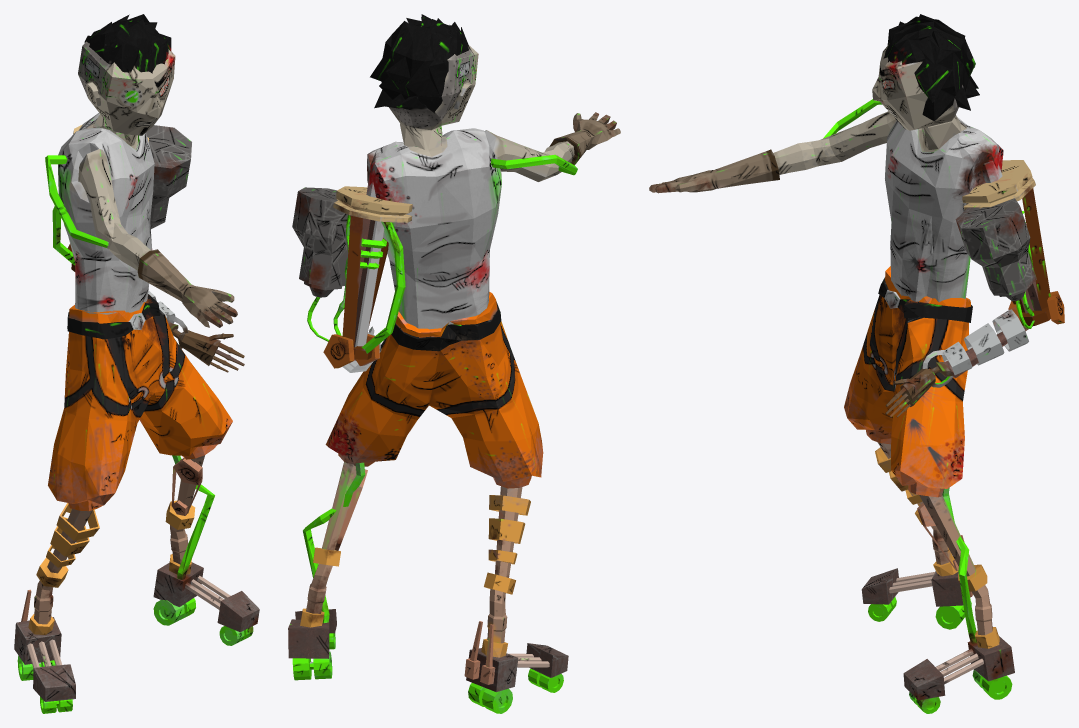
Rendered from CyborgFINALAnimation_000014.obj.
The picture shows the model from 3 angles, left to right: view 1: azimuth 30°, elevation 25°; view 2: azimuth 150°, elevation 25°; view 3: azimuth 270°, elevation 25°; orthographic projection. The views are drawn at different scales.
Visible parts, largest first — view 1: CyborgMesh_Cube.002; view 2: CyborgMesh_Cube.002; view 3: CyborgMesh_Cube.002.
Part boxes in pixels (box(x1,y1,x2,y2)): CyborgMesh_Cube.002: box(14, 14, 259, 713); CyborgMesh_Cube.002: box(288, 14, 620, 713); CyborgMesh_Cube.002: box(649, 14, 1064, 713).
Bounding box in the file's own units: 3.63 × 9.52 × 5.59.
